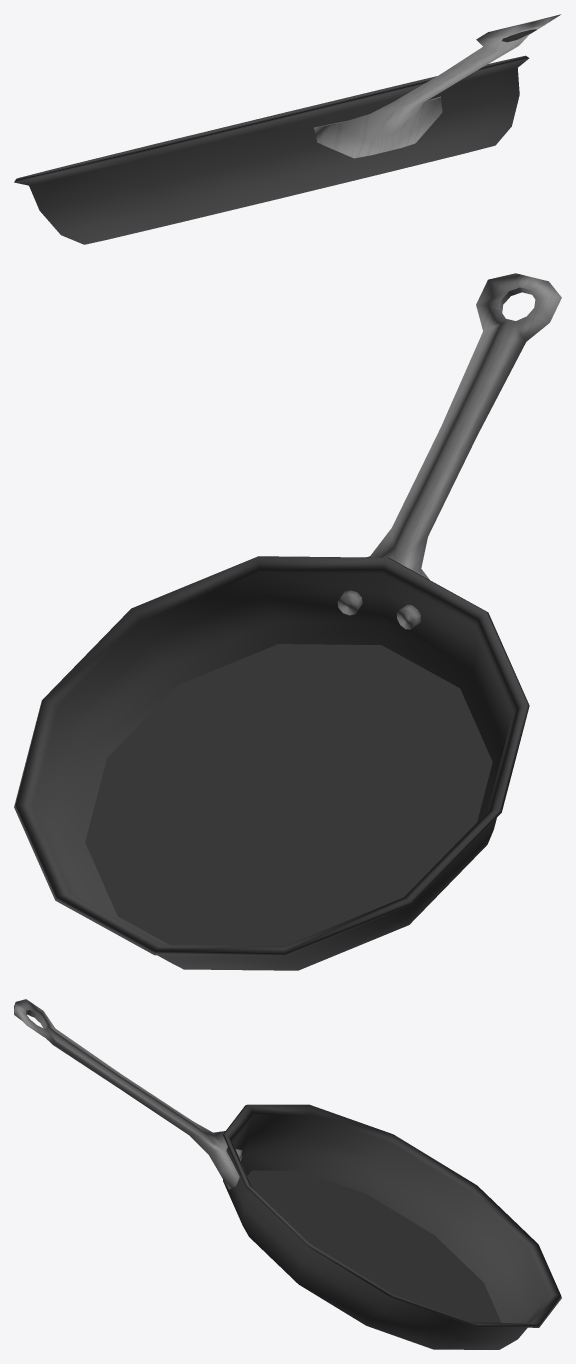
File: SAVE.ICO.obj
3 views of the same model, one above another, from view 1: azimuth 30°, elevation 25°; view 2: azimuth 150°, elevation 25°; view 3: azimuth 270°, elevation 25° (orthographic). The views are drawn at different scales.
Bounding box in the file's own units: 2.76 × 2.53 × 3.94.
1 material, 1 textured.
